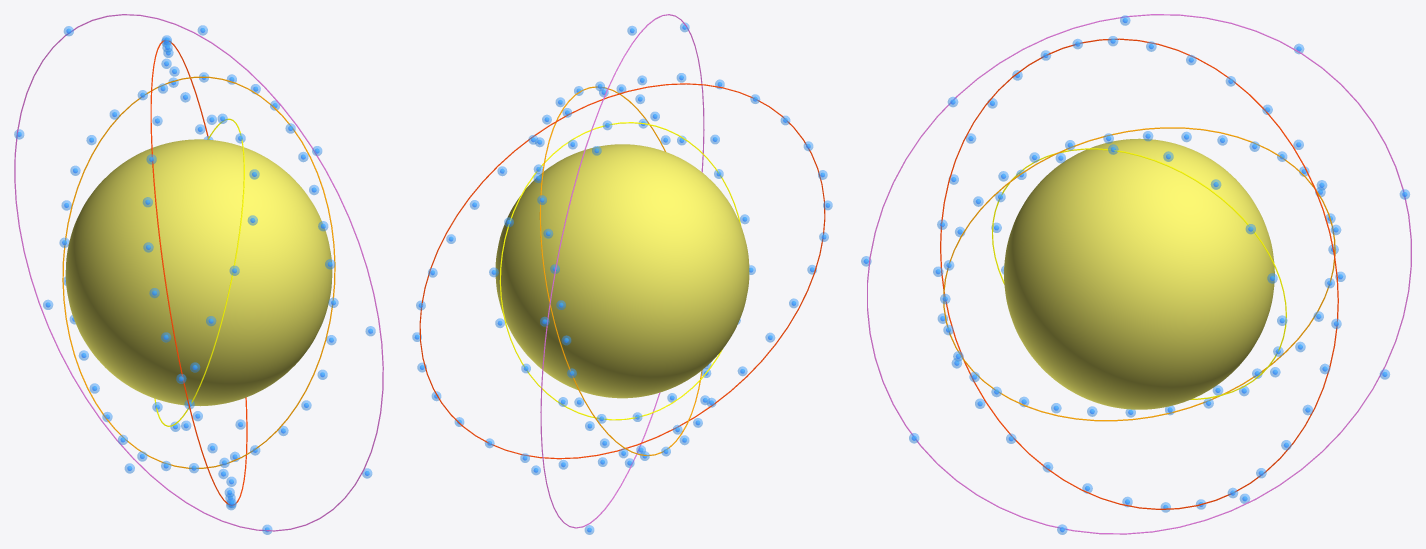
The picture shows the model from 3 angles, left to right: view 1: azimuth 30°, elevation 25°; view 2: azimuth 150°, elevation 25°; view 3: azimuth 270°, elevation 25°; orthographic projection. The views are drawn at different scales.
Visible parts, largest first — view 1: Md, object 191, object 61, object 126, object 24; view 2: Md, object 126, object 191, object 24, object 61; view 3: Md, object 191, object 126, object 61, object 24.
Boxes of the visible parts, x1=… form: Md: x1=65, y1=139, x2=332, y2=406; object 191: x1=14, y1=14, x2=383, y2=531; object 61: x1=62, y1=76, x2=335, y2=468; object 126: x1=150, y1=40, x2=247, y2=505; object 24: x1=154, y1=118, x2=244, y2=426; Md: x1=495, y1=144, x2=749, y2=398; object 126: x1=419, y1=83, x2=825, y2=459; object 191: x1=540, y1=14, x2=704, y2=528; object 24: x1=499, y1=122, x2=741, y2=420; object 61: x1=539, y1=86, x2=702, y2=456; Md: x1=1004, y1=138, x2=1274, y2=409; object 191: x1=867, y1=14, x2=1411, y2=534; object 126: x1=940, y1=38, x2=1338, y2=509; object 61: x1=943, y1=127, x2=1335, y2=421; object 24: x1=992, y1=148, x2=1286, y2=399.
Bounding box in the file's own units: 4.67 × 8.48 × 8.31.
